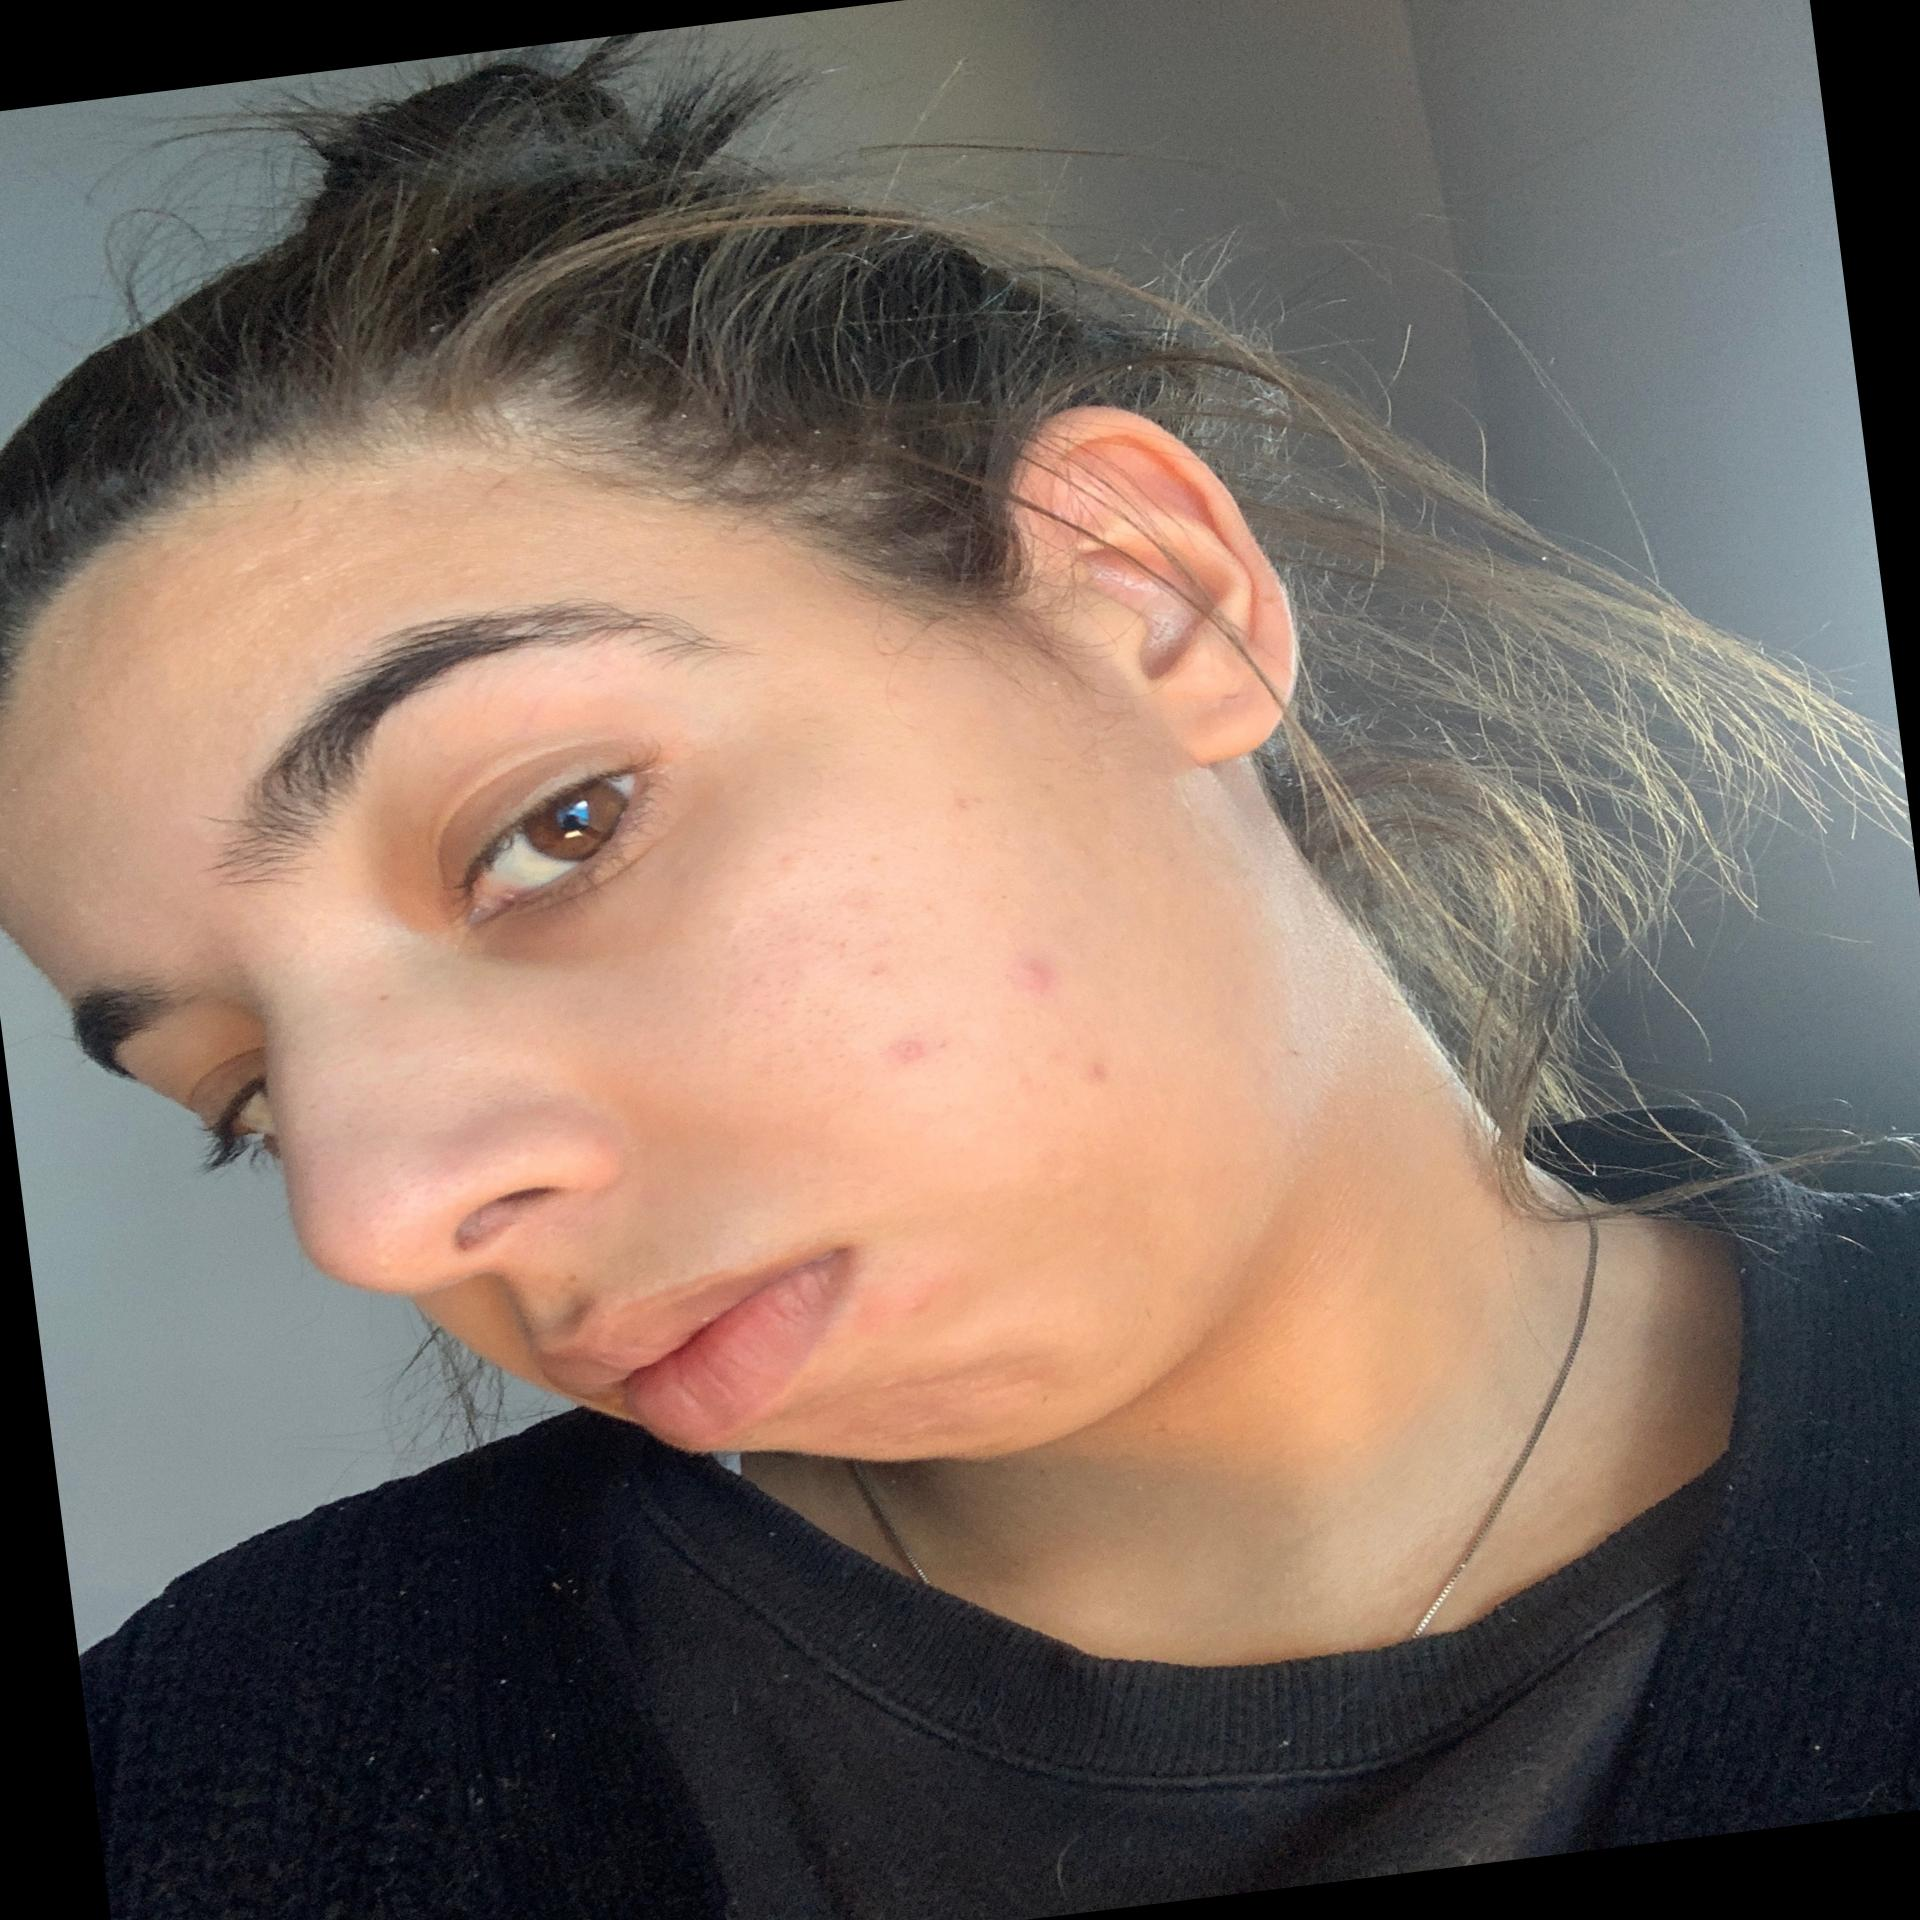Acne: (870, 1027, 944, 1073), (997, 948, 1064, 995), (942, 784, 1002, 823), (833, 1291, 879, 1338), (835, 884, 881, 918), (897, 1287, 937, 1322), (1078, 1051, 1116, 1087)
Blackhead: (672, 867, 900, 1062), (348, 1132, 427, 1211)
